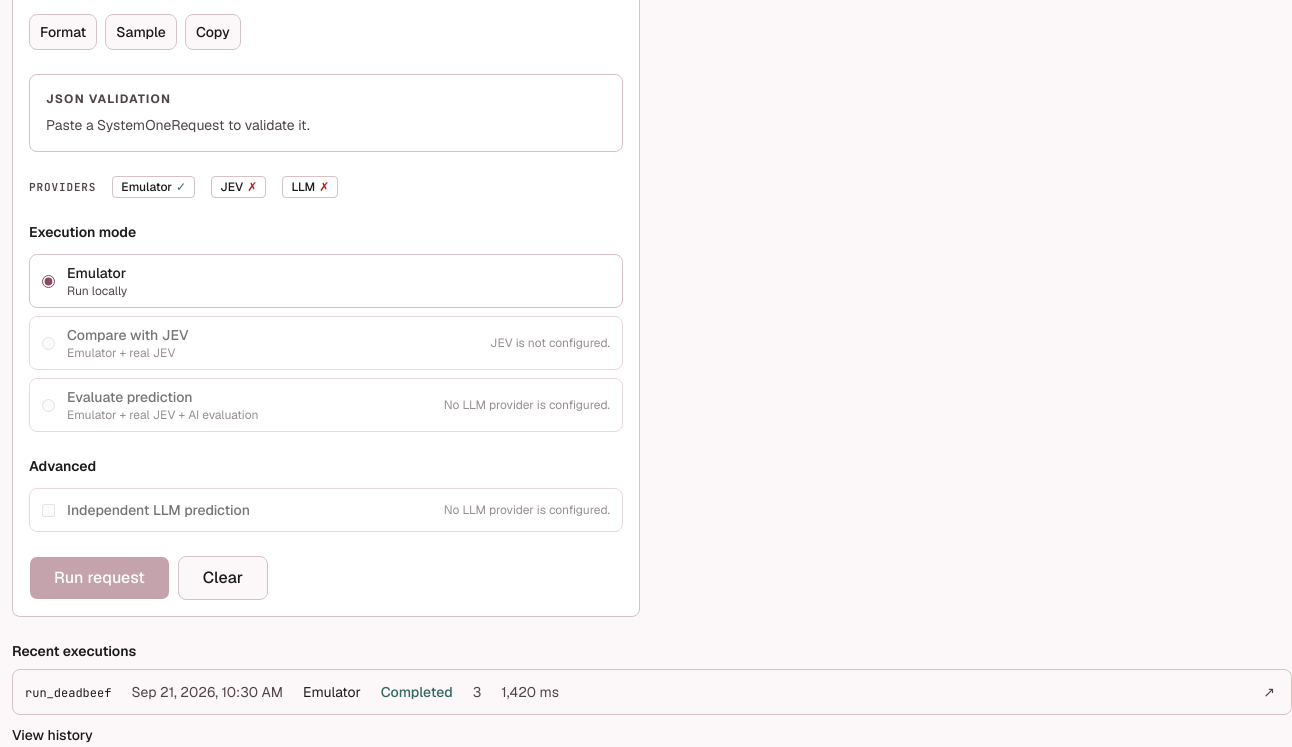
PrincipalView — request block collapse (P46) › collapses on a recent-click hydration that lands
(page scrolled)
Click the button with aria-label "Load execution run_deadbeef — Emulator, Completed": [68, 693] box x1=13 y1=672 x2=1247 y2=712
(page scrolled)
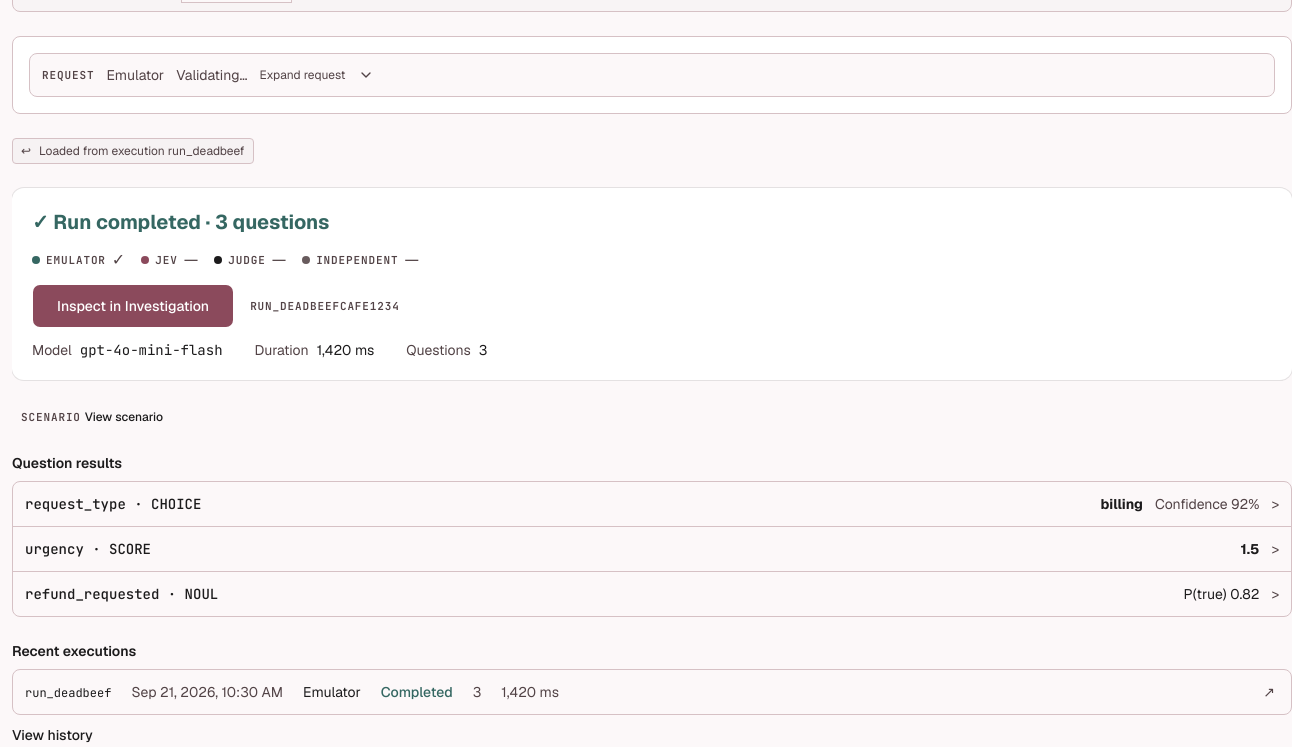
Now the button with test id "request-toggle" is collapsed, box x1=29 y1=53 x2=1275 y2=97
Now the element with test id "validation-panel" is gone
Now the element with test id "hero-result" is shown, box x1=12 y1=188 x2=1291 y2=380
